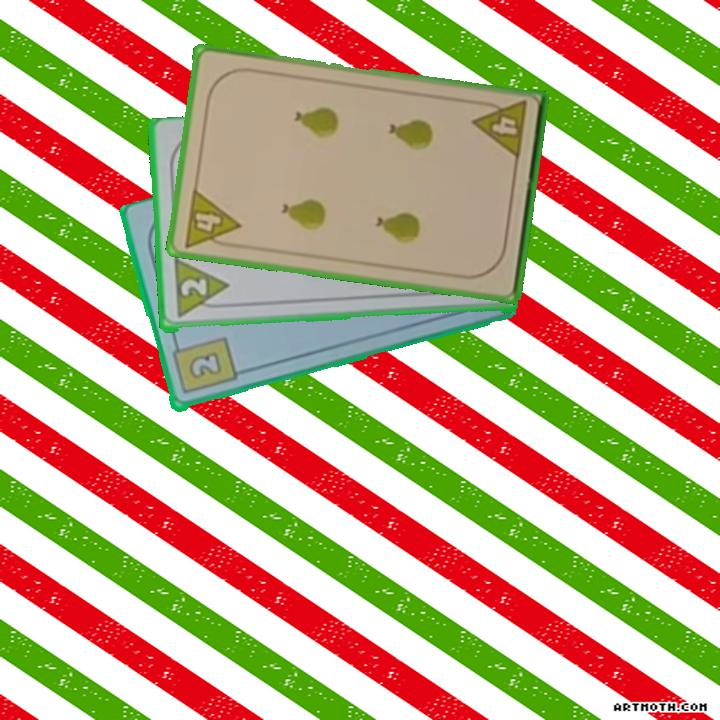2b: (168, 334, 239, 398)
2p: (170, 258, 232, 322)
4p: (180, 185, 243, 252), (470, 97, 530, 163)
